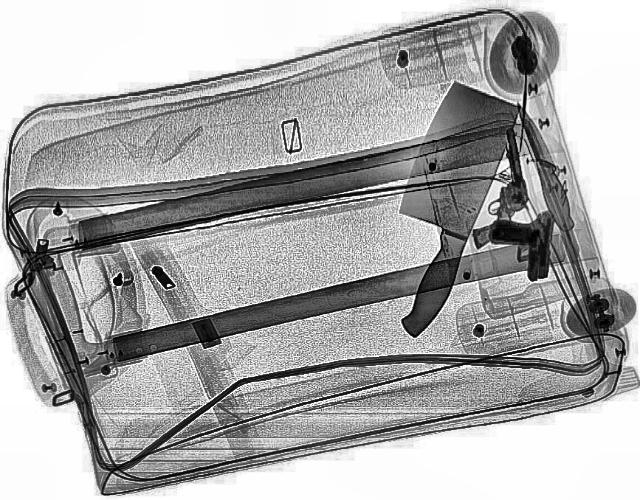Gun: (448, 128, 540, 248), (484, 210, 554, 280)
Knife: (353, 78, 525, 340), (502, 100, 580, 230)
